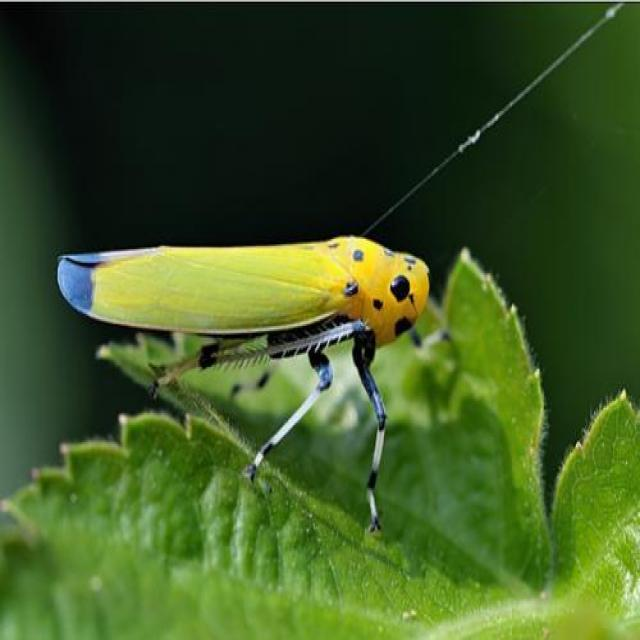Yechan: (50, 233, 457, 538)
